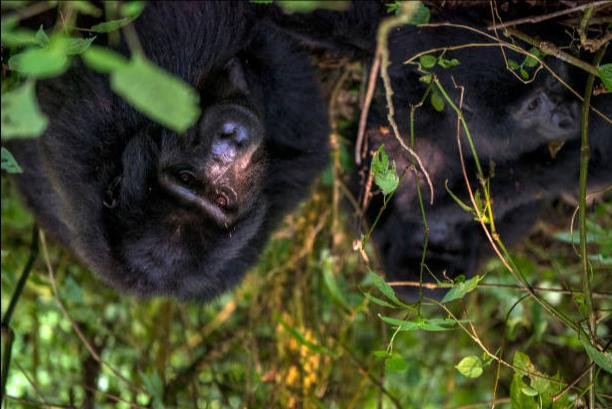goriile_montagne: (20, 3, 328, 310)
